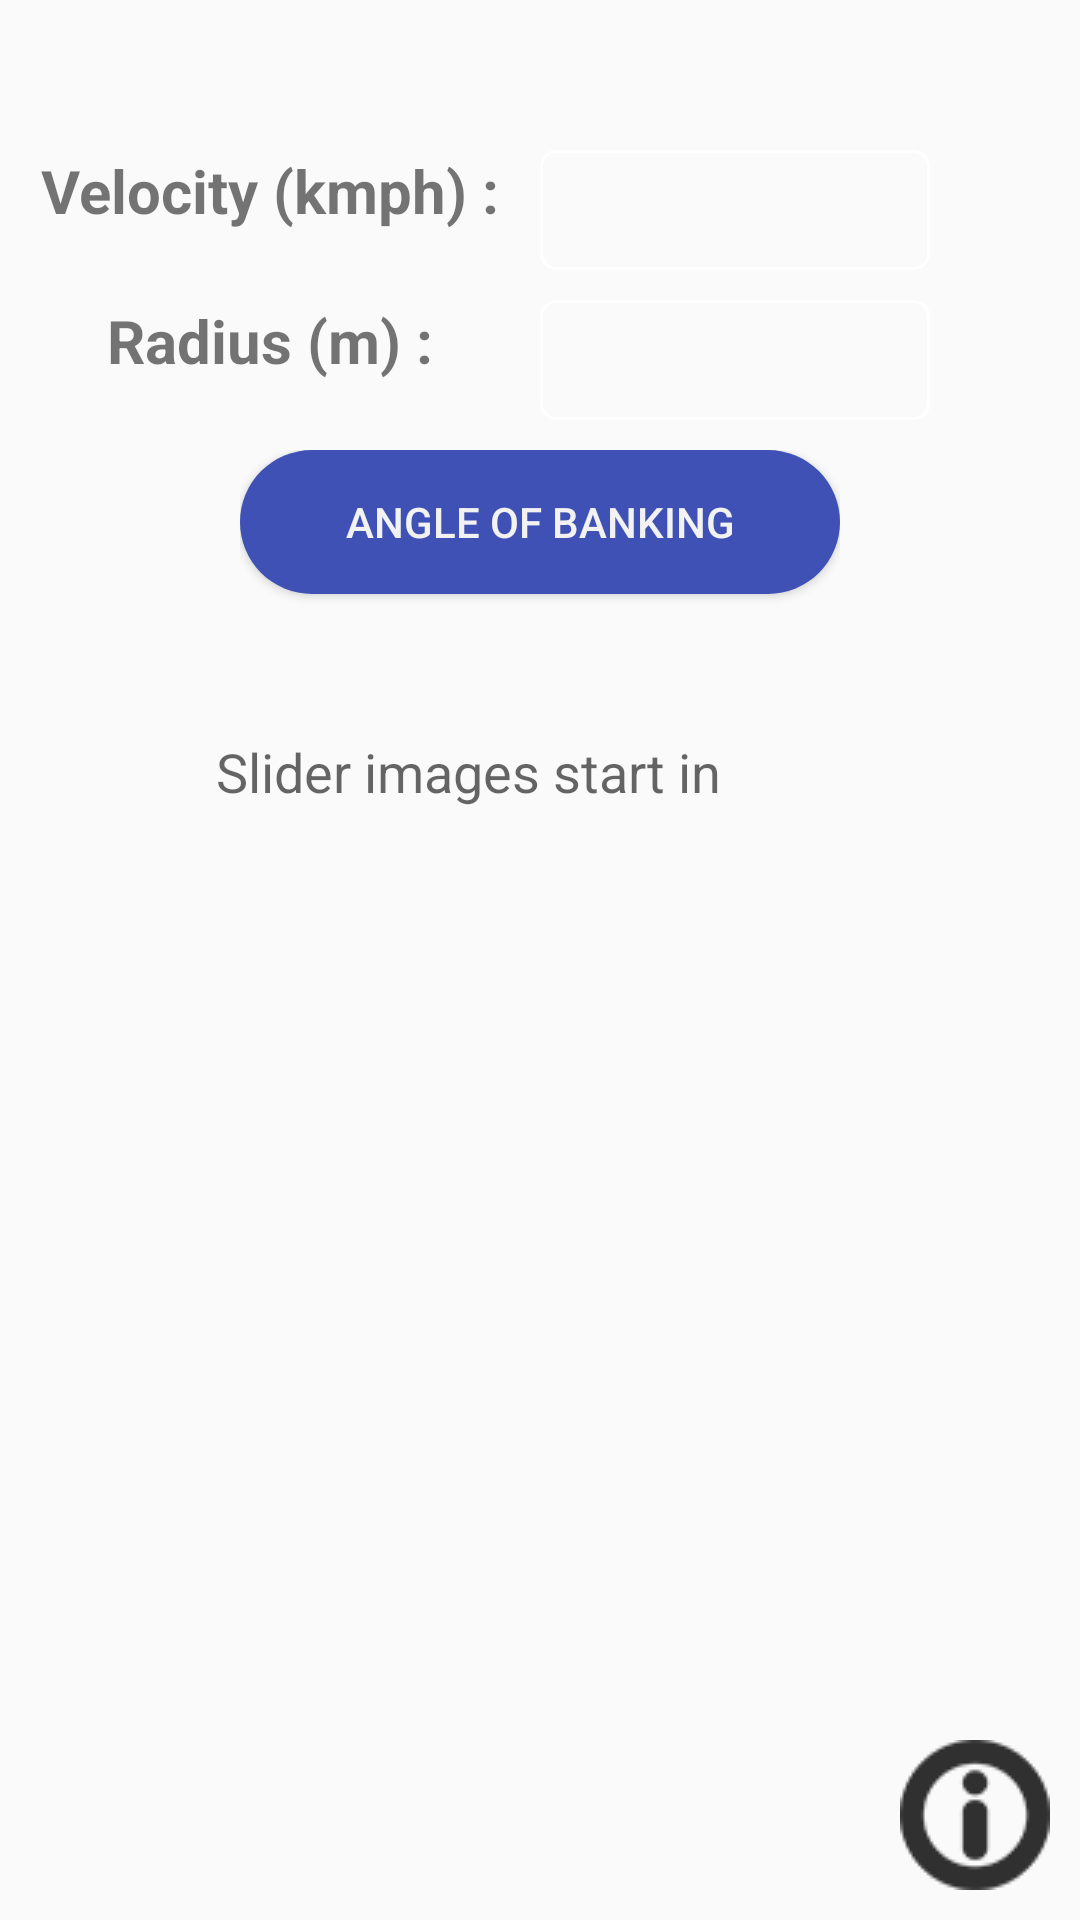

Icons on this 1080*1920 Android screen, each with its box as bbox(x1, y1, x2, y2):
info: bbox(900, 1740, 1050, 1890)
